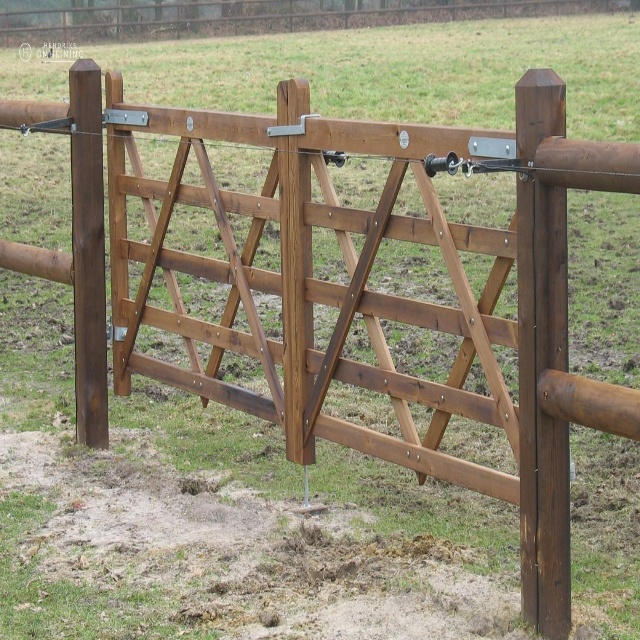obstacle: (184, 0, 640, 638)
